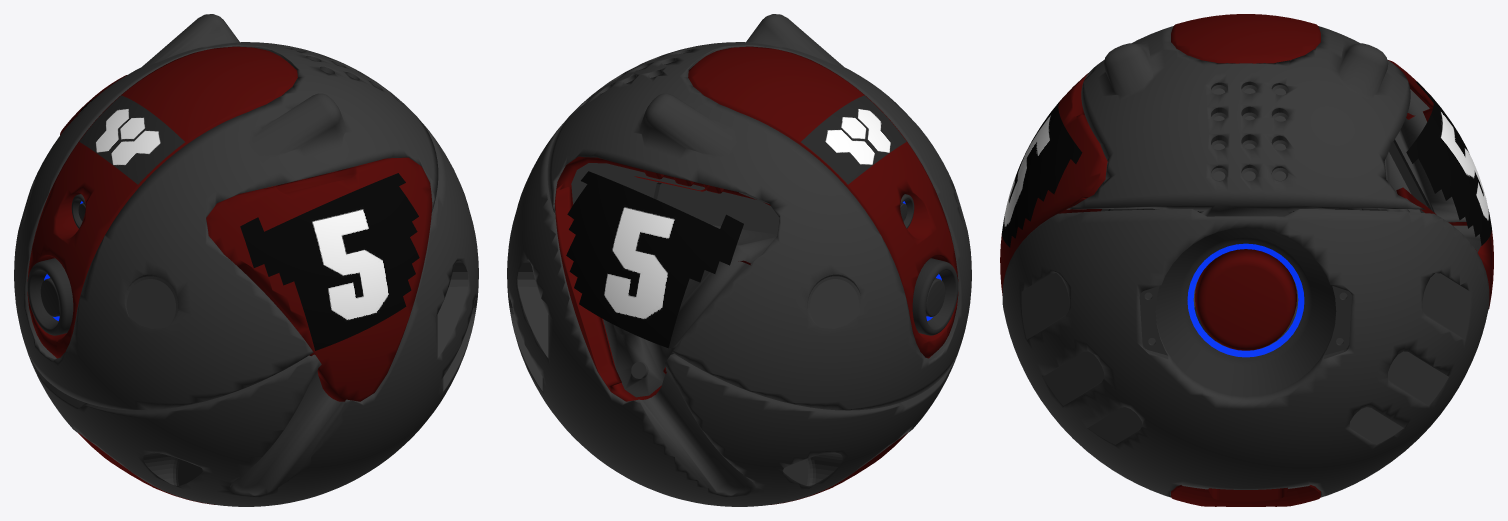
File: DROID.glb
The picture shows the model from 3 angles, left to right: view 1: azimuth 30°, elevation 25°; view 2: azimuth 150°, elevation 25°; view 3: azimuth 270°, elevation 25°; orthographic projection. The views are drawn at different scales.
Visible parts, largest first — view 1: WING; view 2: WING; view 3: WING.
Part boxes in pixels (x1=…): WING: x1=14, y1=14, x2=478, y2=506; WING: x1=507, y1=14, x2=971, y2=506; WING: x1=1000, y1=14, x2=1493, y2=506.
Bounding box in the file's own units: 3.46 × 3.52 × 3.48.
6 materials, 2 textured.
